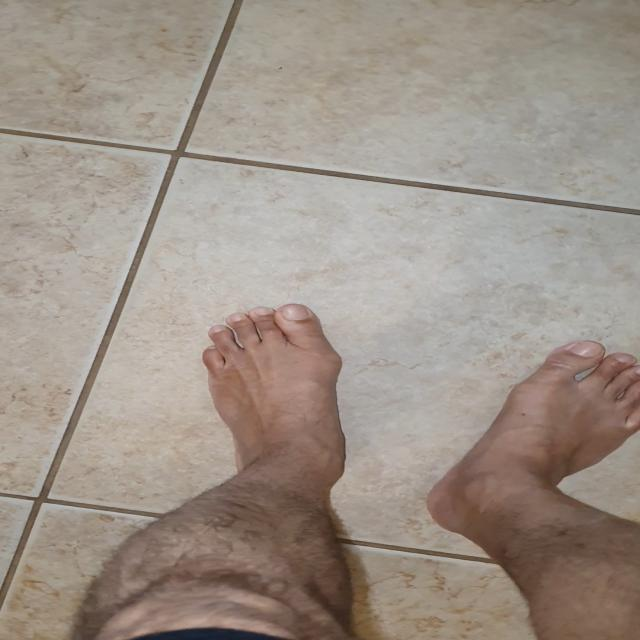no-boots: (170, 300, 356, 640), (435, 327, 640, 534)
